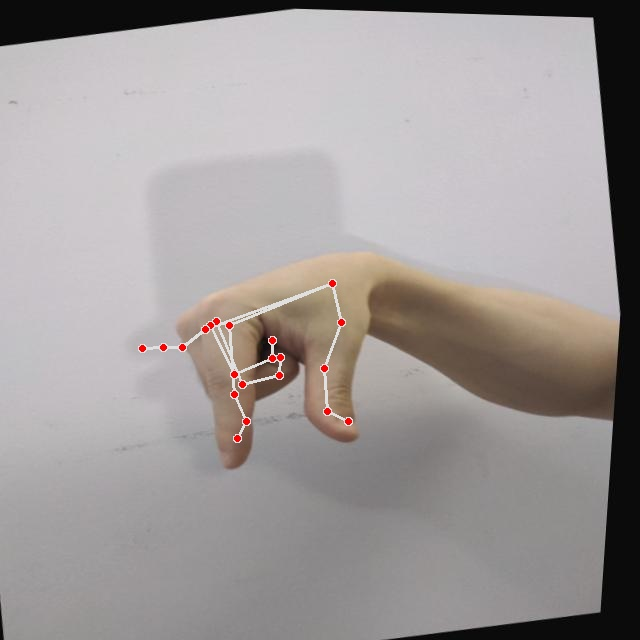Q: (154, 237, 409, 485)
